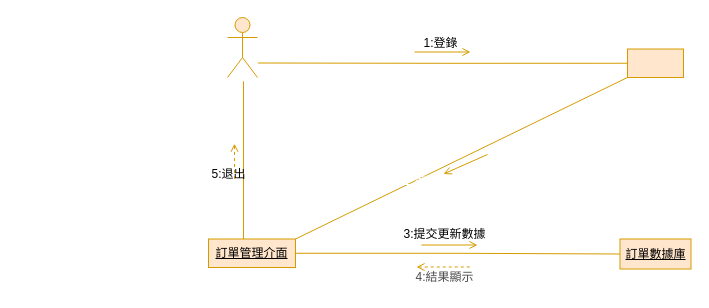
This 709x308 diagram has some shape labels left out. Each missing label, with the centre of its shape:
:訂單管理員: pixel 242 47
管理介面: pixel 655 63
